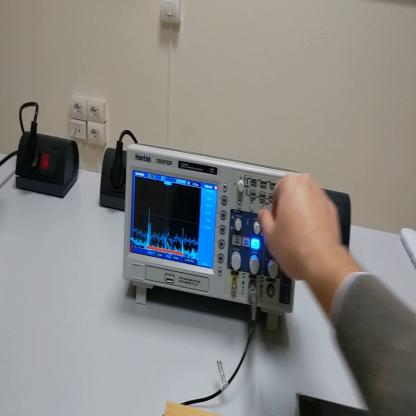hand: (259, 171, 345, 285)
oscilloscope: (125, 142, 307, 334)
socket: (16, 131, 80, 203), (101, 149, 126, 211)
working area: (167, 405, 221, 414)
